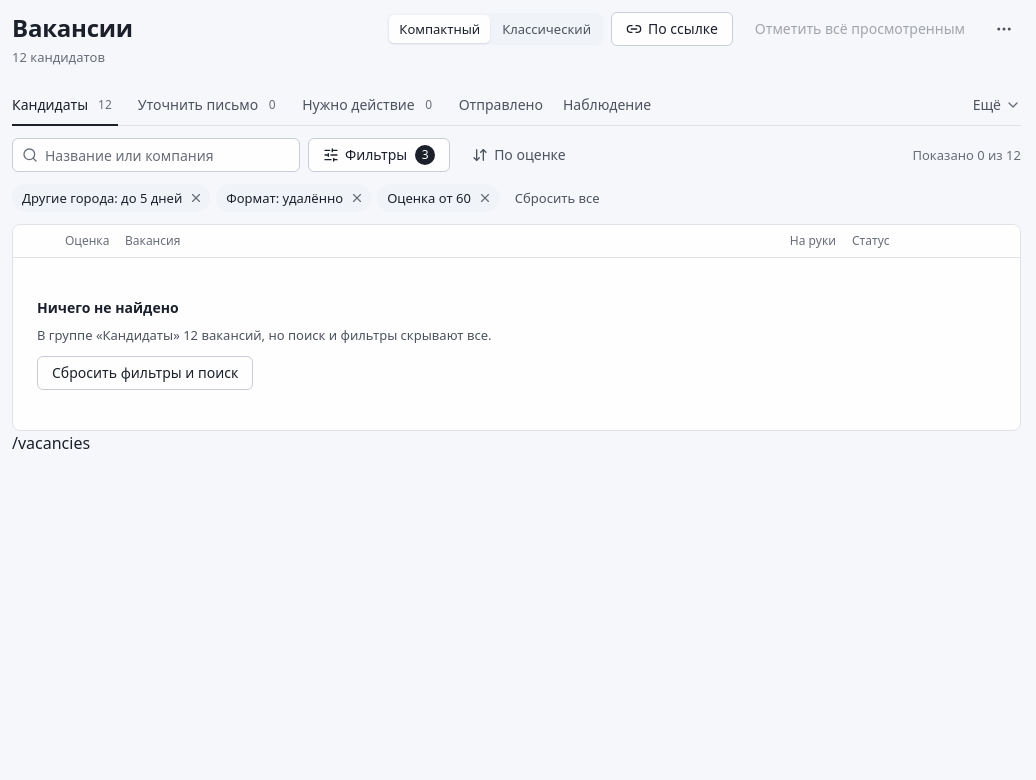
VacanciesPage › shows the saved filters as chips and explains an empty list
This screenshot has width=1036, height=780.
Check: the text "Формат: удалённо" is shown, box [226,189,343,207]
Check: the text "Оценка от 60" is shown, box [387,189,471,207]
# one cross takes away one filter, the others stay
Click the button named "Убрать фильтр «Формат: удалённо»" at (357, 198), box [345,186,369,210]
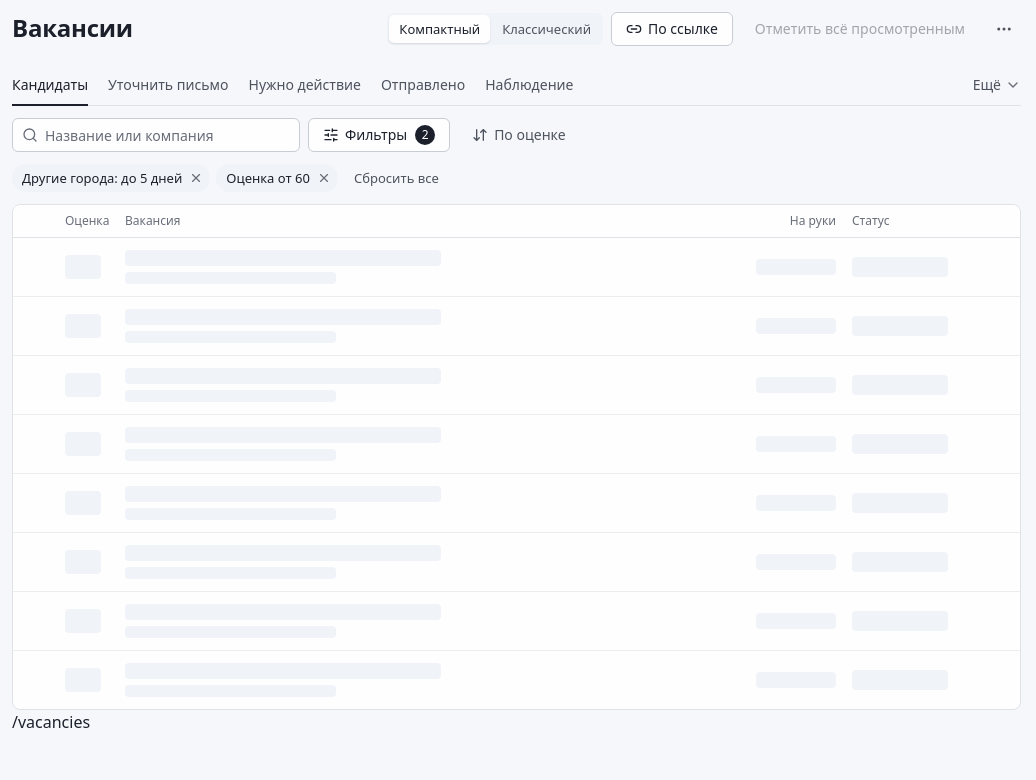
Check: the text "Формат: удалённо" is gone
# «Сбросить все» clears the rest and keeps the tab
Click the button "Сбросить все" at (396, 178), box [344,164,449,192]
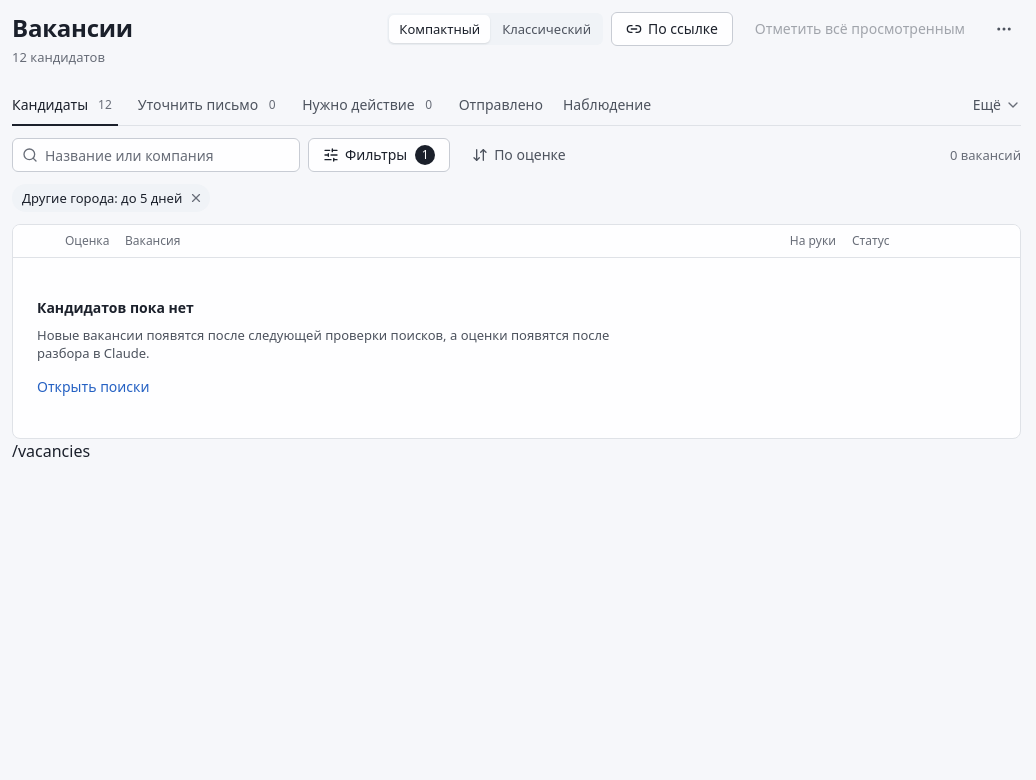
Check: the text "Оценка от 60" is gone
